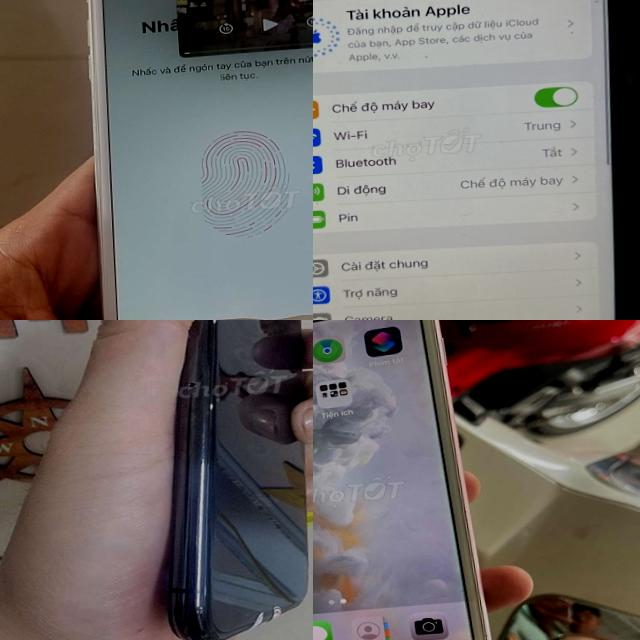gen_11: (313, 0, 638, 320)
gen_7_8: (62, 0, 313, 320), (313, 320, 491, 640)
gen_x_xs: (169, 320, 306, 640)
scratch: (188, 396, 238, 421), (190, 590, 211, 626), (205, 320, 222, 330)
